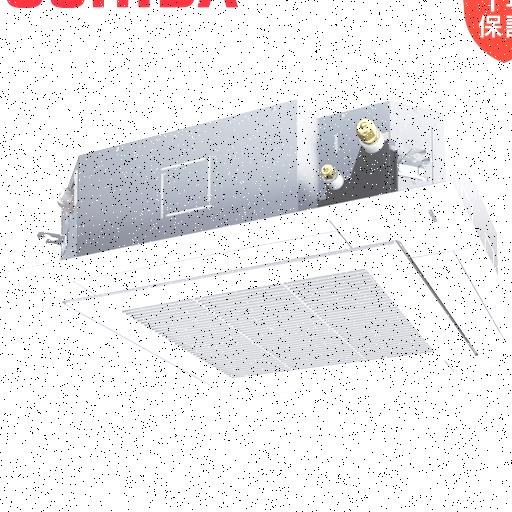4-way-ac: (0, 182, 512, 402)
